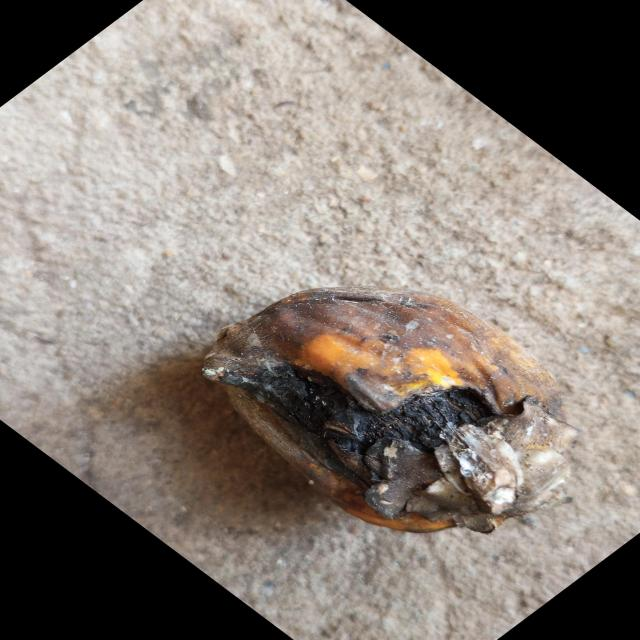damaged: (198, 284, 575, 539)
